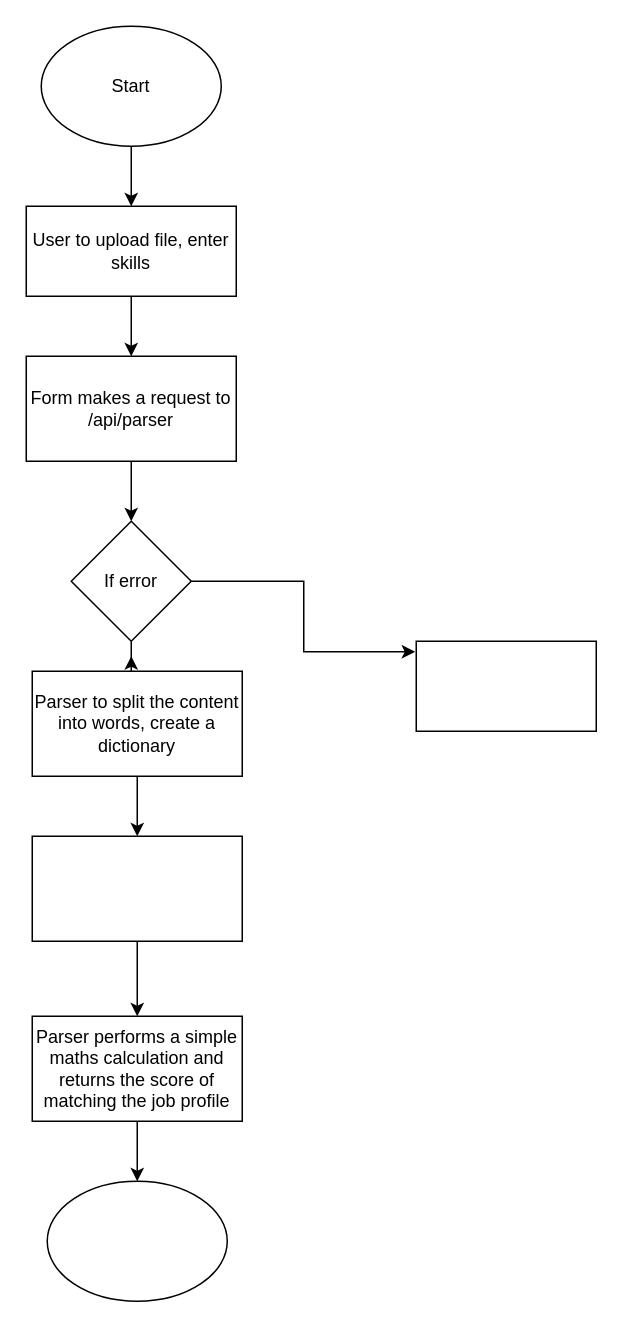
This 623x1328 diagram has some shape labels left out. The box of each missing label's shape, as (x1, y1, x2, y2) in pixels:
Parser to transform the incoming skills into lowercase characters to compare: (31, 835, 242, 941)
Send response 500 and render the error page: (415, 640, 596, 731)
Stop: (46, 1180, 227, 1301)
